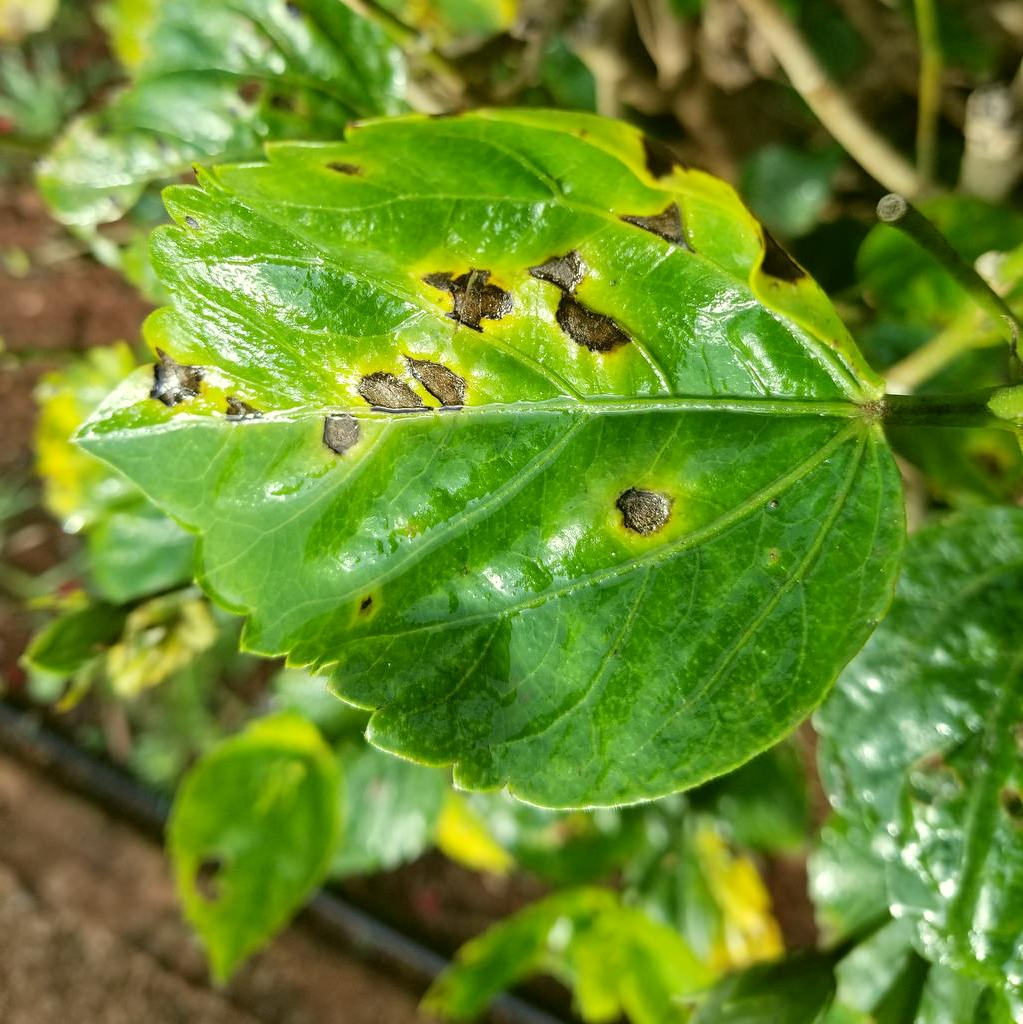Tomato leaf bacterial spot: (62, 100, 904, 822)
